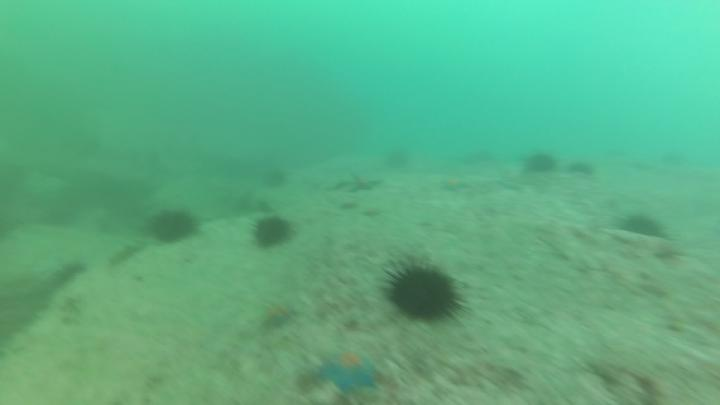echinus: (383, 256, 472, 326), (145, 209, 204, 247), (250, 213, 300, 252), (617, 210, 668, 242), (520, 150, 560, 179), (55, 260, 88, 286), (382, 145, 411, 171), (260, 166, 289, 192), (568, 157, 599, 179)
starfish: (316, 348, 382, 397), (260, 300, 302, 332)
